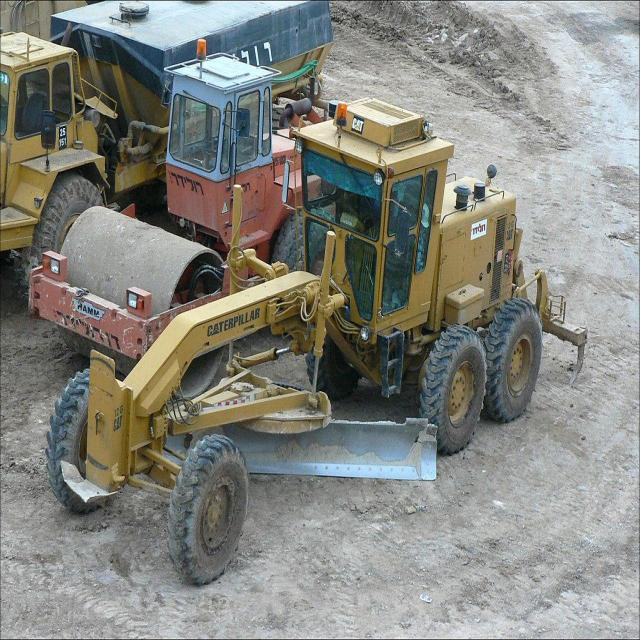Grader: (27, 89, 582, 581)
Roller: (28, 50, 308, 352)
